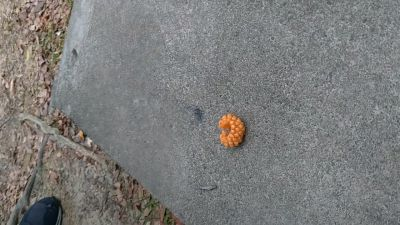eggs: (217, 112, 246, 149)
